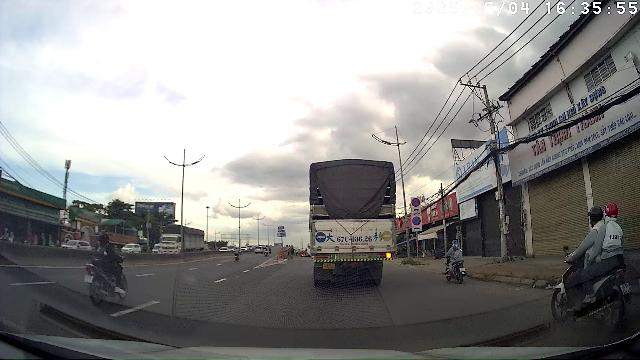130-cam-dung-va-do-xe: (412, 197, 421, 207)
131a-cam-do-xe: (411, 217, 421, 226)
